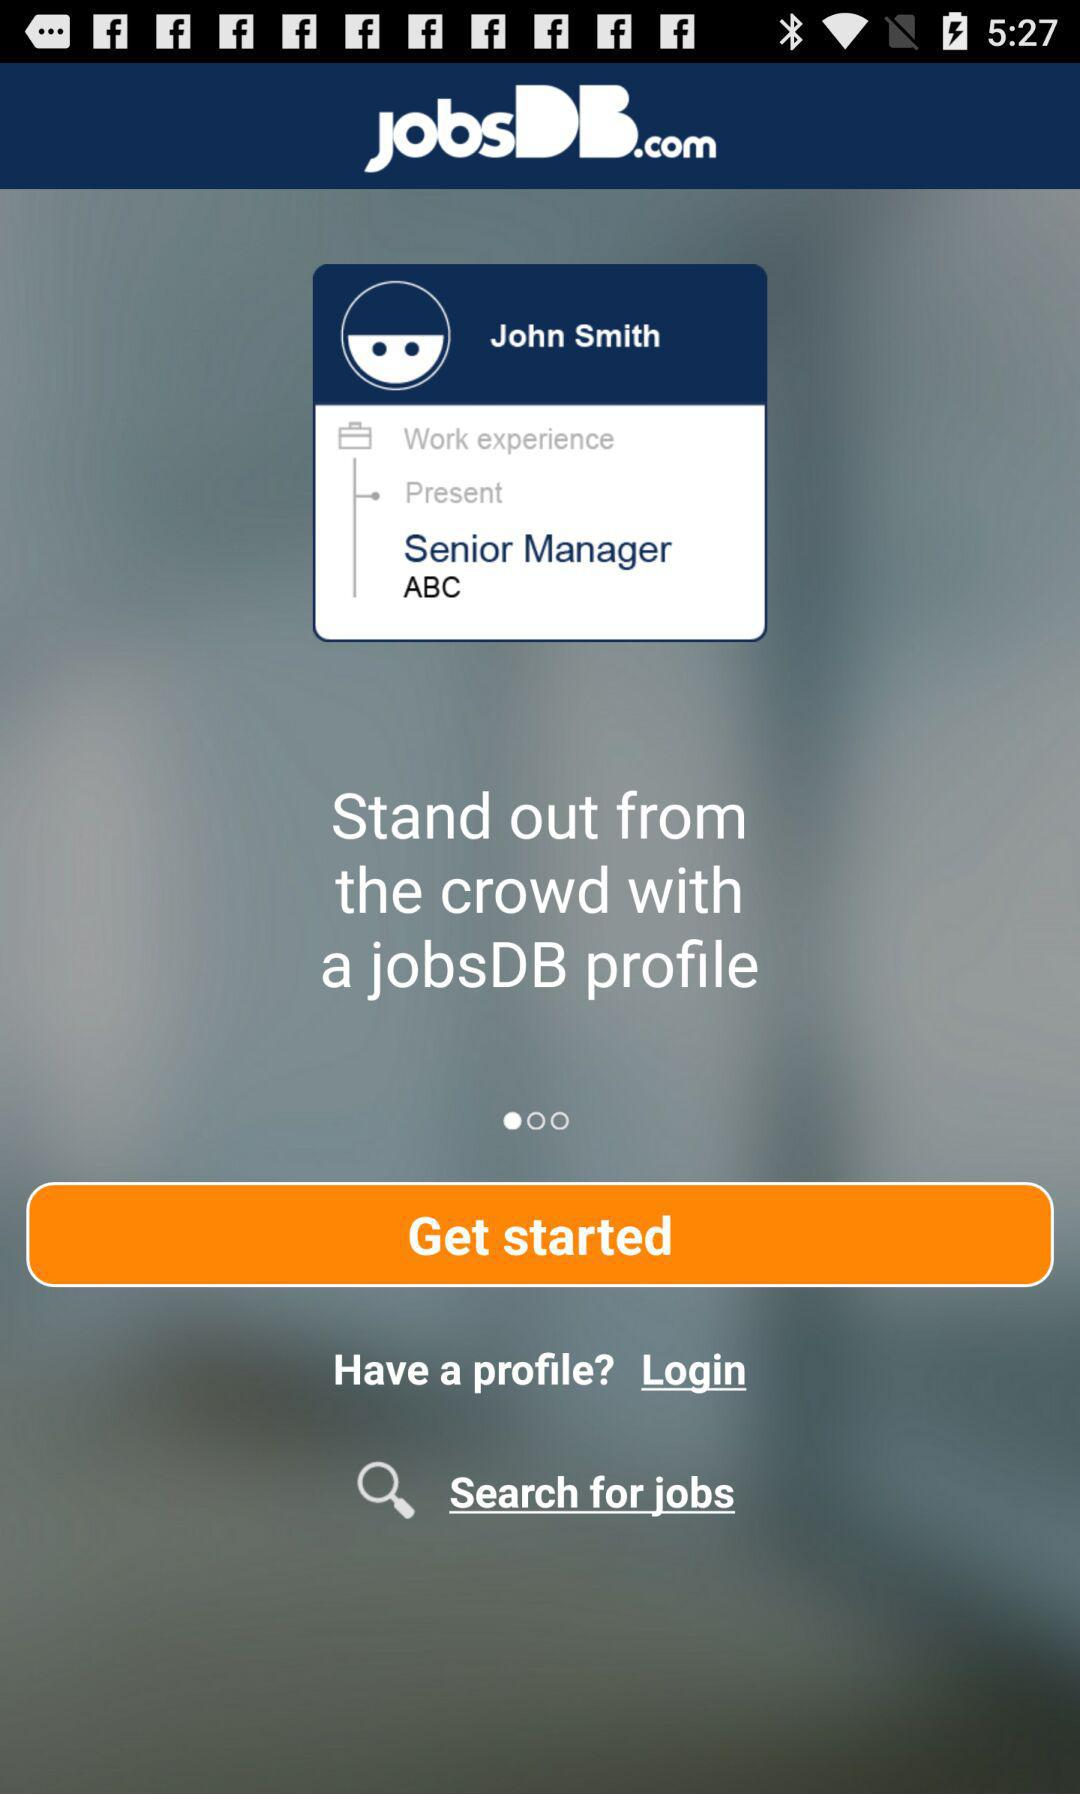Icon: (357, 1461, 418, 1520)
Image: (313, 263, 771, 645), (365, 85, 717, 174)
PageIndicator: (502, 1110, 571, 1133)
Text: (322, 789, 760, 1005), (448, 1472, 737, 1518), (334, 1351, 615, 1395), (641, 1352, 748, 1395)
TextButton: (26, 1181, 1054, 1289)
UpperTaskBar: (1, 1, 1080, 64)
